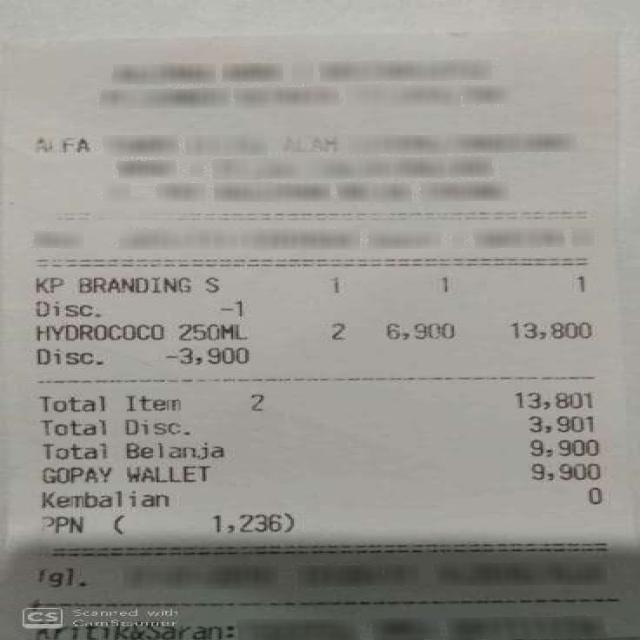kertas: (5, 1, 635, 640)
